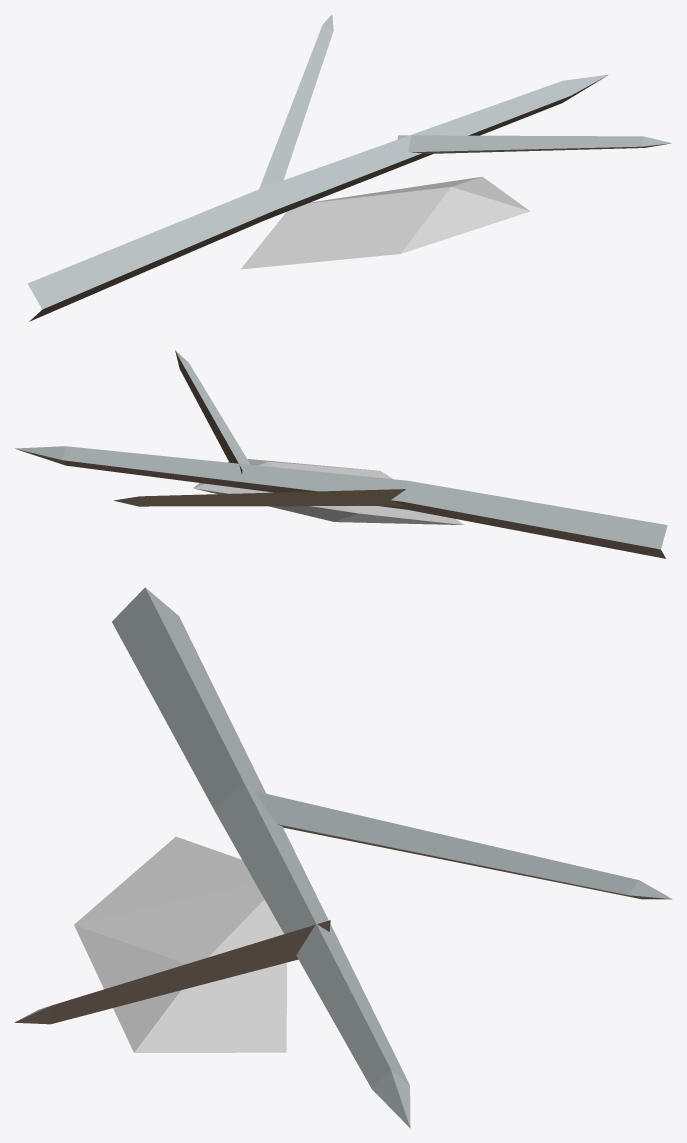
File: prop_arctic_twig_0.glb
3 renders of one model, top to bottom at view 1: azimuth 30°, elevation 25°; view 2: azimuth 150°, elevation 25°; view 3: azimuth 270°, elevation 25°, orthographic. The views are drawn at different scales.
Parts seen in each view (by area): view 1: Body; view 2: Body; view 3: Body.
Boxes of the visible parts, x1=… form: Body: x1=27, y1=14, x2=672, y2=321; Body: x1=15, y1=350, x2=667, y2=558; Body: x1=15, y1=587, x2=672, y2=1128.
Bounding box in the file's own units: 1.26 × 0.1503 × 0.6712.
